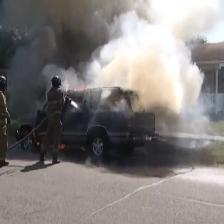smoke: (122, 34, 186, 102)
